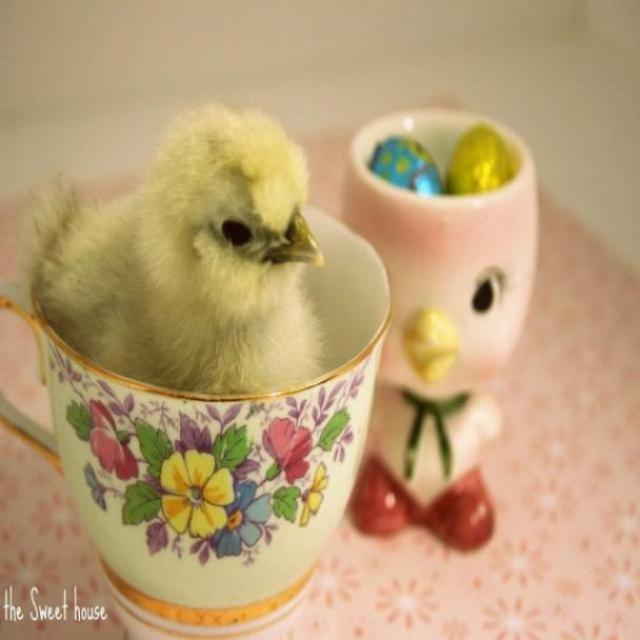Chicken: (32, 116, 339, 425)
